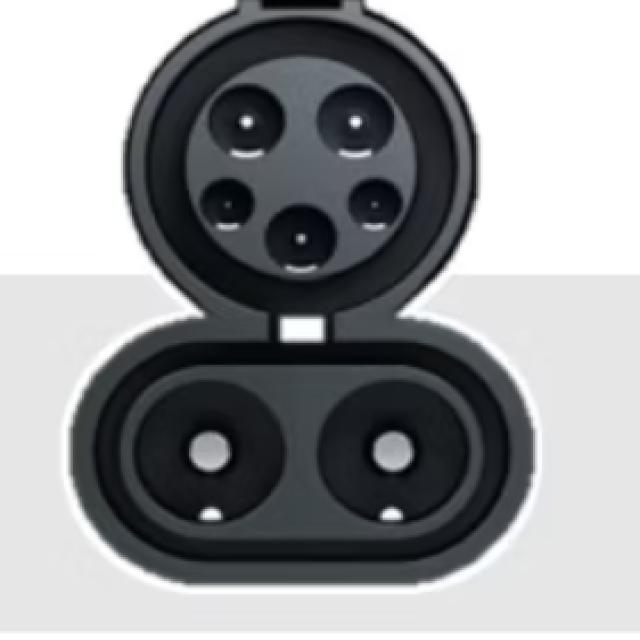CCS1: (78, 23, 532, 622)
